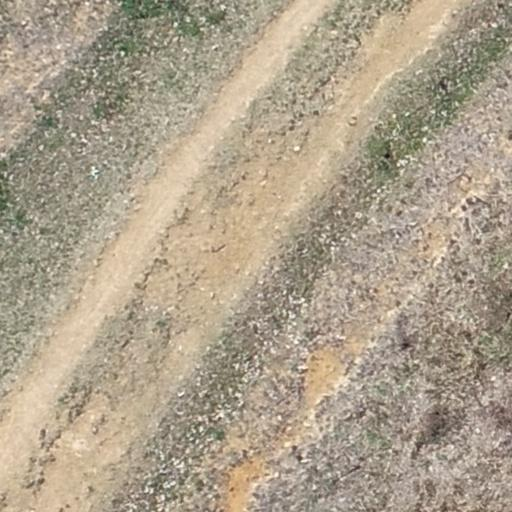stone: (453, 191, 485, 213), (298, 414, 324, 427), (314, 391, 332, 409), (258, 168, 272, 190), (282, 438, 298, 457), (156, 224, 172, 242), (431, 249, 446, 267), (382, 307, 408, 316), (296, 363, 310, 373), (396, 158, 409, 168), (352, 355, 362, 367), (132, 202, 143, 212), (296, 295, 306, 306), (156, 492, 166, 502), (167, 304, 177, 313), (210, 43, 220, 52), (302, 420, 312, 428), (502, 260, 510, 270), (489, 22, 499, 30), (176, 390, 186, 398), (296, 142, 302, 154), (217, 410, 225, 419), (354, 211, 363, 219), (283, 440, 292, 448), (330, 29, 338, 37), (489, 374, 497, 382), (91, 258, 99, 266), (209, 291, 216, 299), (276, 414, 282, 422), (422, 136, 428, 144), (177, 344, 183, 352), (200, 208, 206, 215), (267, 138, 273, 144)
